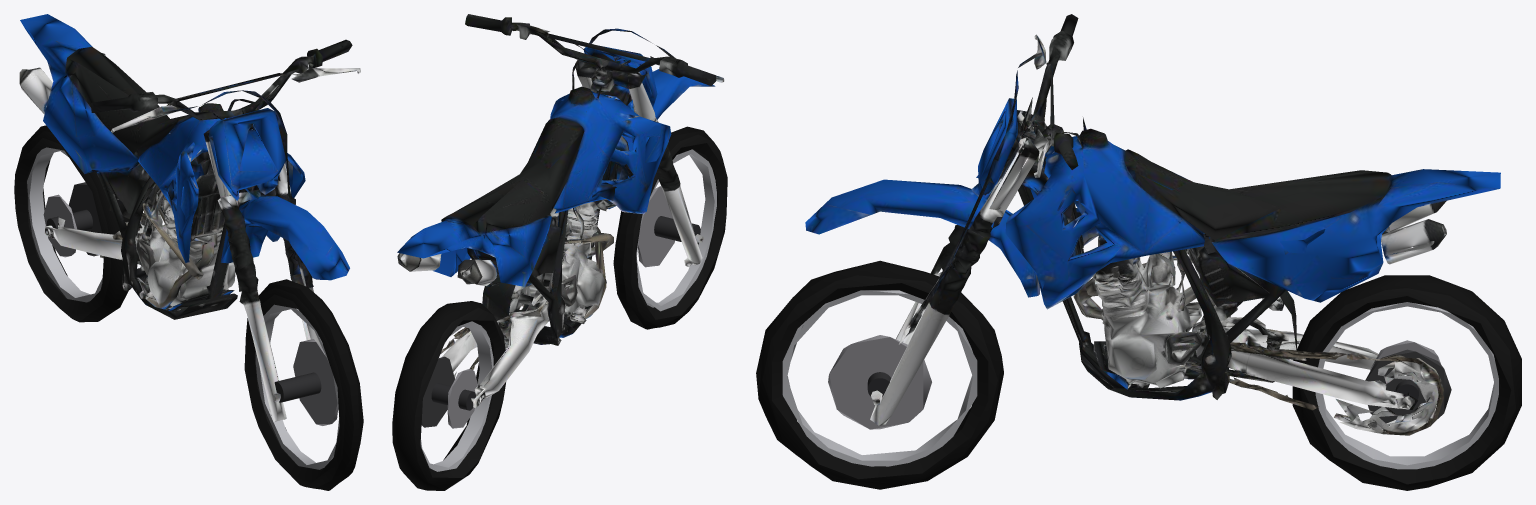
The model's file is dirt-bike.glb.
3 views of the same model, side by side, from view 1: azimuth 30°, elevation 25°; view 2: azimuth 150°, elevation 25°; view 3: azimuth 270°, elevation 25° (orthographic). The views are drawn at different scales.
Parts seen in each view (by area): view 1: body, steer, wheel_f, wheel_r; view 2: body, wheel_r, wheel_f, steer; view 3: body, wheel_f, wheel_r, steer.
Boxes of the visible parts, x1,y1,x2,y2 form: body: (19, 14, 305, 319); steer: (90, 39, 360, 421); wheel_f: (244, 279, 363, 490); wheel_r: (14, 125, 129, 322); body: (397, 56, 671, 408); wheel_r: (392, 301, 505, 490); wheel_f: (613, 126, 727, 329); steer: (465, 14, 724, 266); body: (971, 111, 1500, 435); wheel_f: (756, 260, 1003, 489); wheel_r: (1292, 275, 1521, 490); steer: (805, 14, 1078, 425).
Bounding box in the file's own units: 0.9675 × 1.27 × 2.17.
2 materials, 2 textured.
